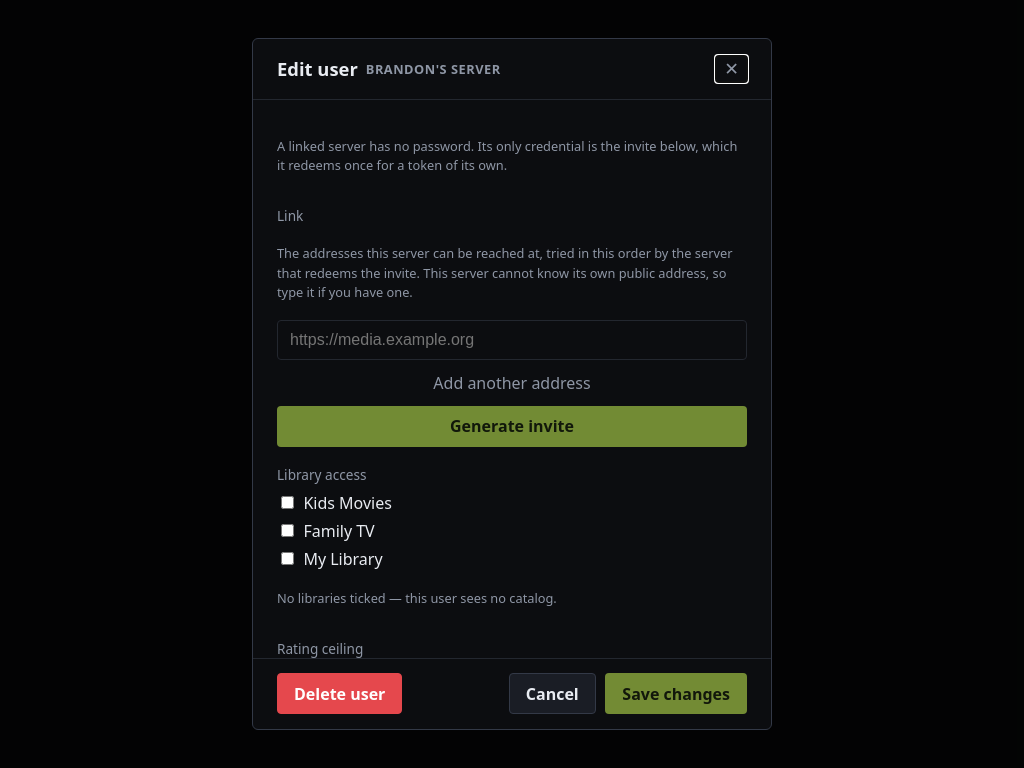
Test: EditUserDialog — a linked server's invite › surfaces a refused mint inline and keeps the dialog open
expect the element with test id "link-section" is shown: met, box top-left (277, 206), bottom-right (747, 447)
Type "media.example.org" into the field with test id "origin-input-0" at (512,340), box top-left (277, 320), bottom-right (747, 360)
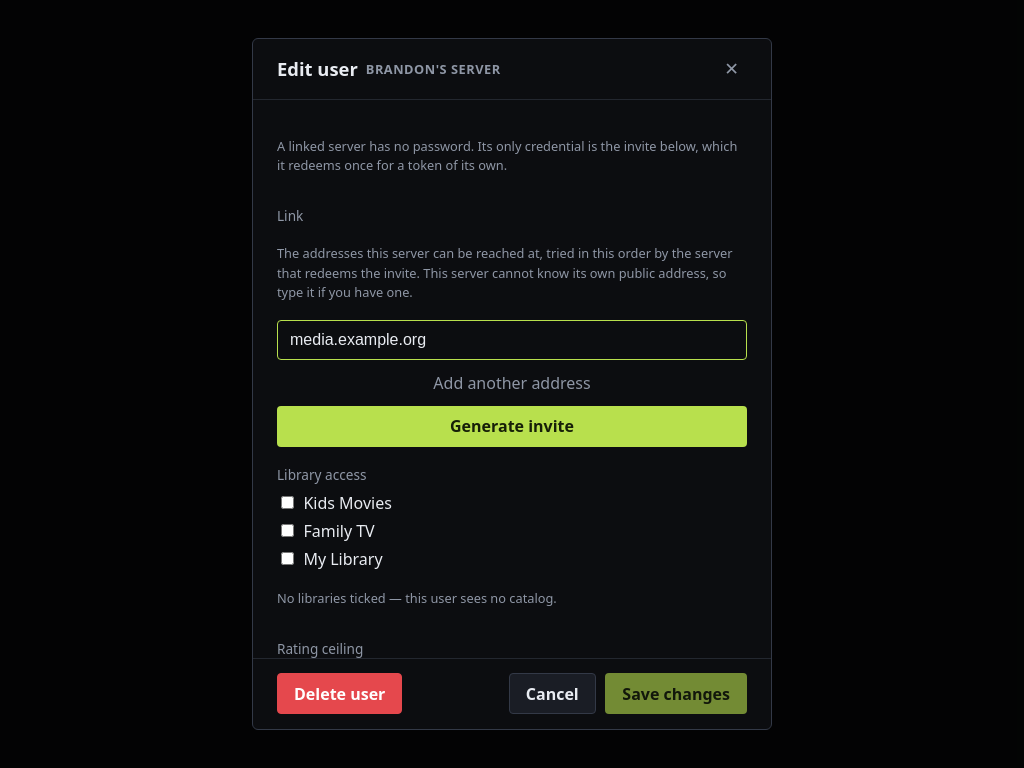
Click the button with test id "generate-invite" at (512,426), box top-left (277, 406), bottom-right (747, 447)
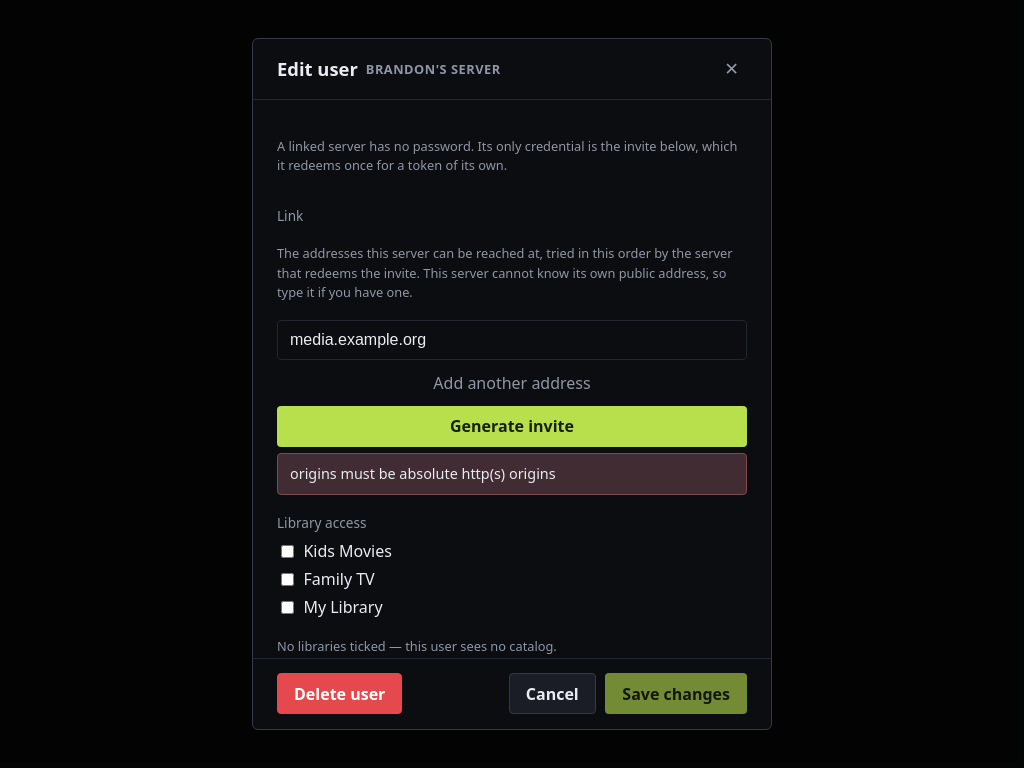
expect the message with test id "invite-error" shows "absolute http(s) origins": met, box top-left (290, 464), bottom-right (556, 483)
